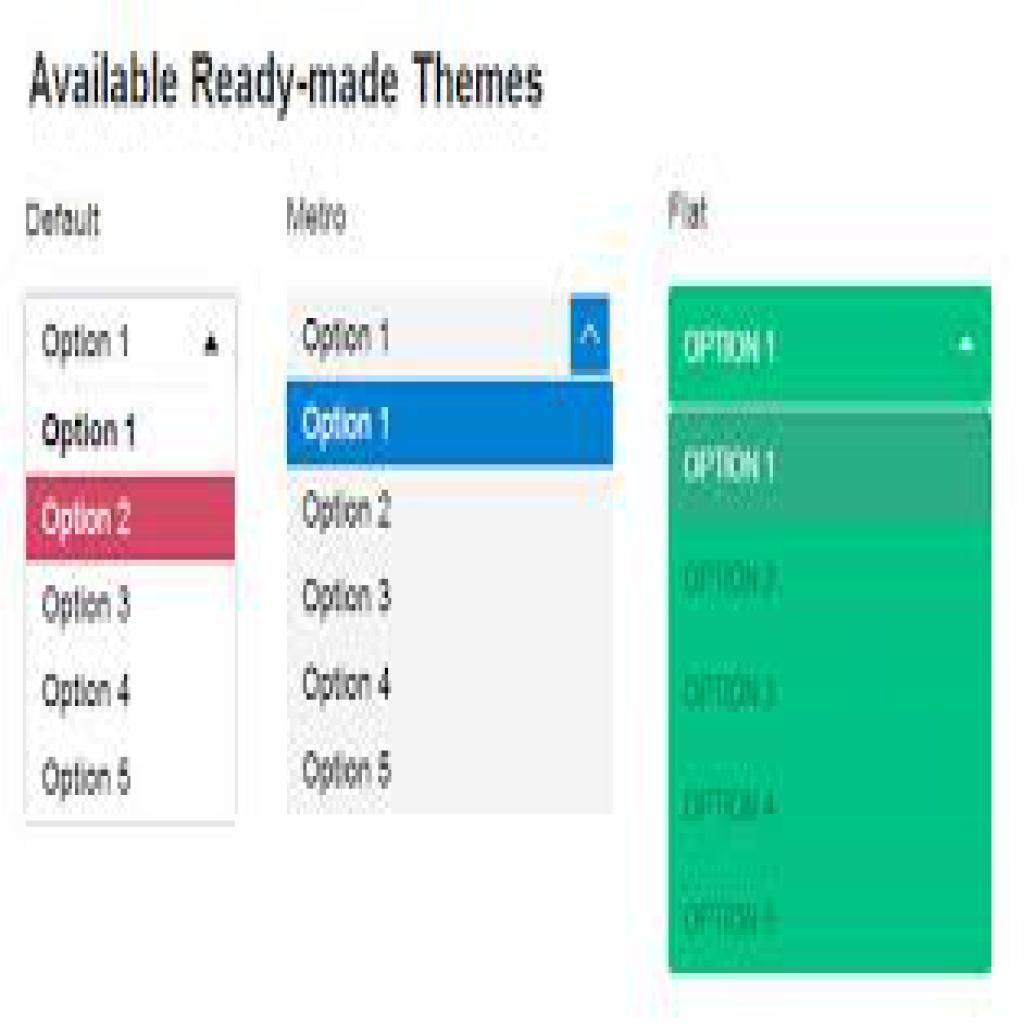button: (286, 380, 615, 470), (25, 477, 237, 561)
dropdown: (672, 286, 992, 401), (289, 293, 612, 380), (28, 301, 235, 379)
label: (25, 51, 546, 112), (300, 747, 395, 802), (681, 664, 785, 714), (40, 754, 134, 809), (40, 581, 133, 634), (301, 485, 395, 537), (682, 442, 781, 491), (40, 411, 145, 457), (302, 574, 392, 627), (682, 898, 787, 942), (40, 671, 133, 718), (301, 664, 394, 711), (684, 554, 778, 600), (682, 782, 782, 822), (23, 198, 104, 244), (284, 194, 351, 242), (667, 187, 714, 237)
